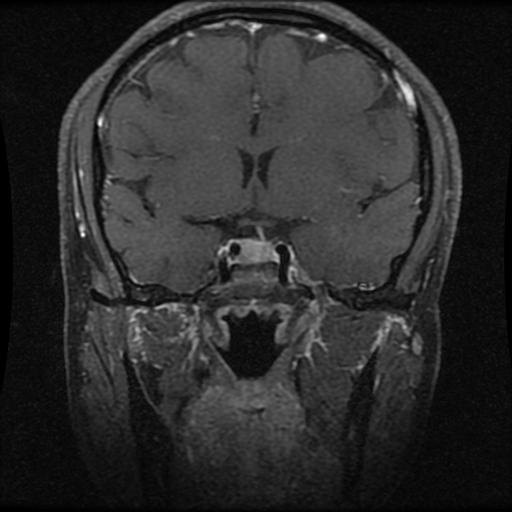Pituirity_tumour: (239, 240, 277, 262)
